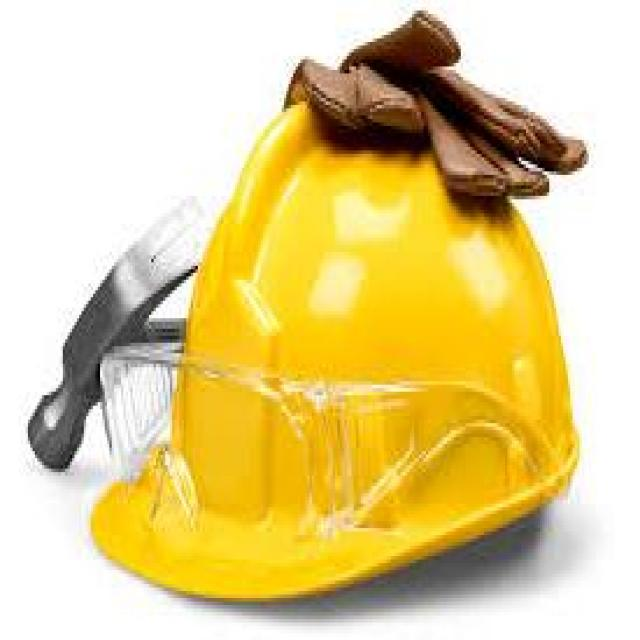Safety-Helmet: (70, 56, 603, 619)
